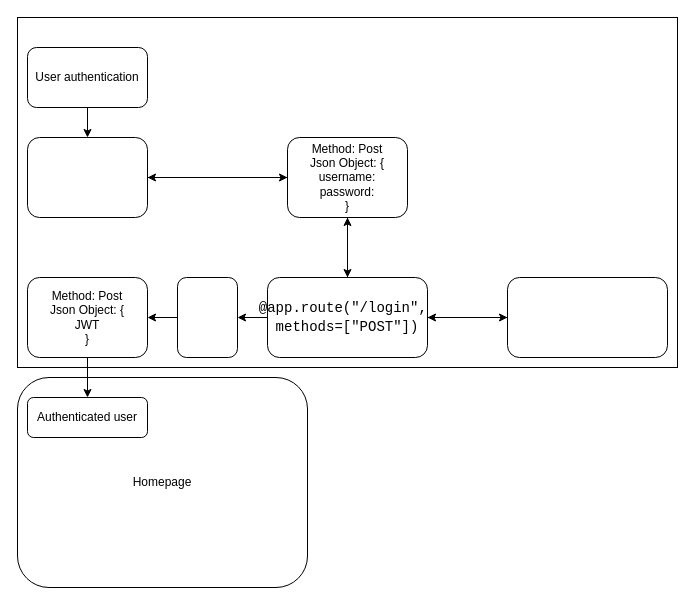
Some shapes in this 695 by 605 pixel diagram are drawn without their labels. Each missing label, with the centre of its shape:
"JWT" goes at (x=207, y=317).
"LoginForm" goes at (x=87, y=177).
"Verify username and password in database" goes at (x=587, y=317).
